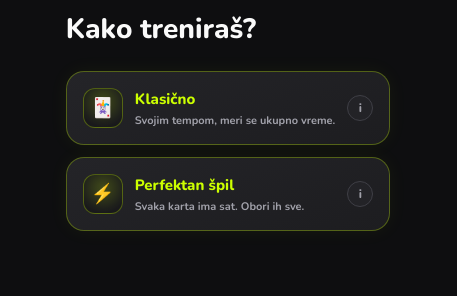
it: ModeSelector › shows the classic explanation for the classic card
Click the button named "Objašnjenje moda". click: (360, 108)
box: [347,95,373,121]
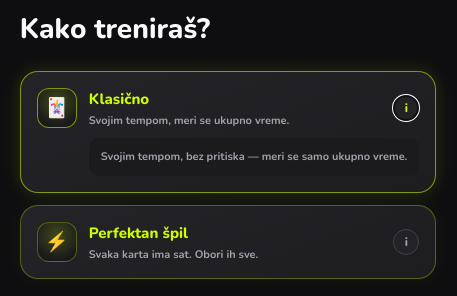
Expected: the text "Svojim tempom, bez pritiska — meri se samo ukupno vreme." is shown, [89,138,419,176]
